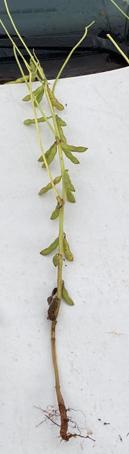soja: (38, 176, 61, 199), (61, 171, 85, 193), (57, 142, 92, 157), (59, 145, 82, 167), (48, 88, 69, 112), (60, 285, 80, 309), (37, 236, 61, 256), (11, 68, 32, 88), (43, 147, 61, 170), (22, 115, 51, 129), (23, 84, 44, 103), (62, 237, 77, 261), (38, 142, 56, 162), (47, 202, 63, 221), (28, 62, 40, 86), (57, 124, 72, 141), (55, 114, 71, 128), (47, 257, 61, 269), (67, 193, 78, 206), (35, 102, 44, 107)
